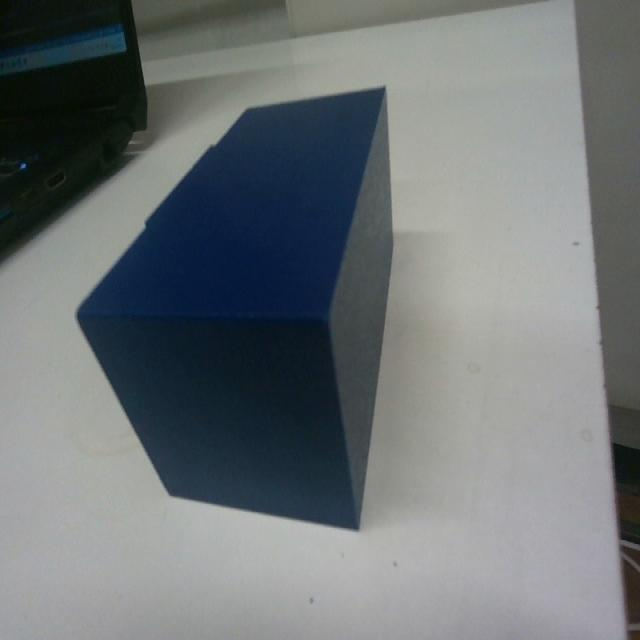Blue Cuboid: (75, 81, 396, 531)
